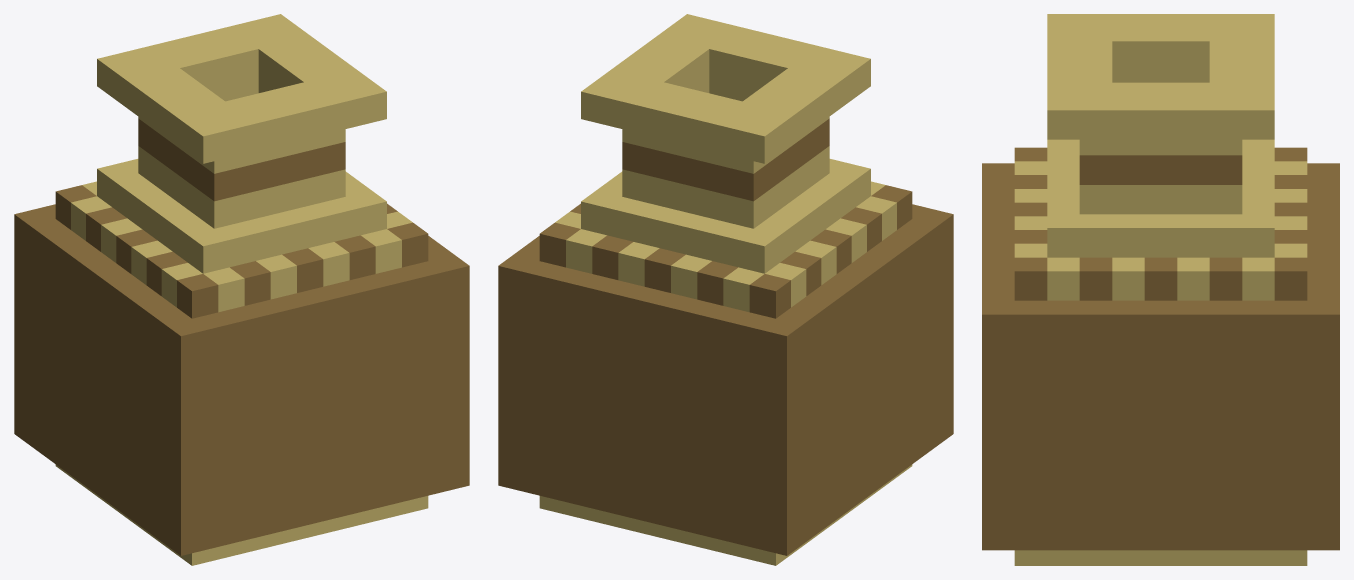
Rendered from Pot.fbx.
The picture shows the model from 3 angles, left to right: view 1: azimuth 30°, elevation 25°; view 2: azimuth 150°, elevation 25°; view 3: azimuth 270°, elevation 25°; orthographic projection. The views are drawn at different scales.
Parts seen in each view (by area): view 1: Pot; view 2: Pot; view 3: Pot.
Boxes of the visible parts, <box> form: Pot: <box>14,14,469,565</box>; Pot: <box>498,14,953,565</box>; Pot: <box>982,14,1339,565</box>.
Size of the model in its own units: 220 by 300 by 220.
